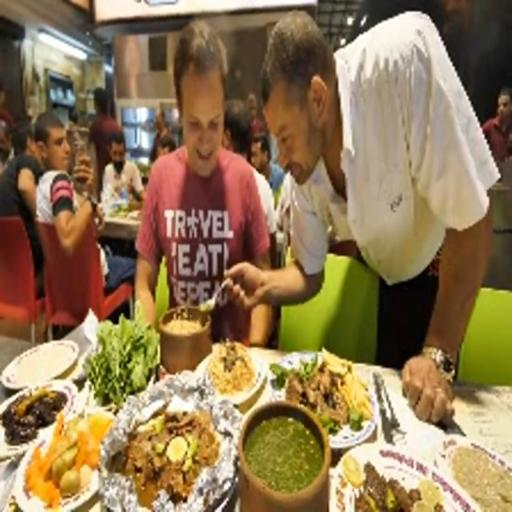nao-violencia: (122, 11, 505, 396)
